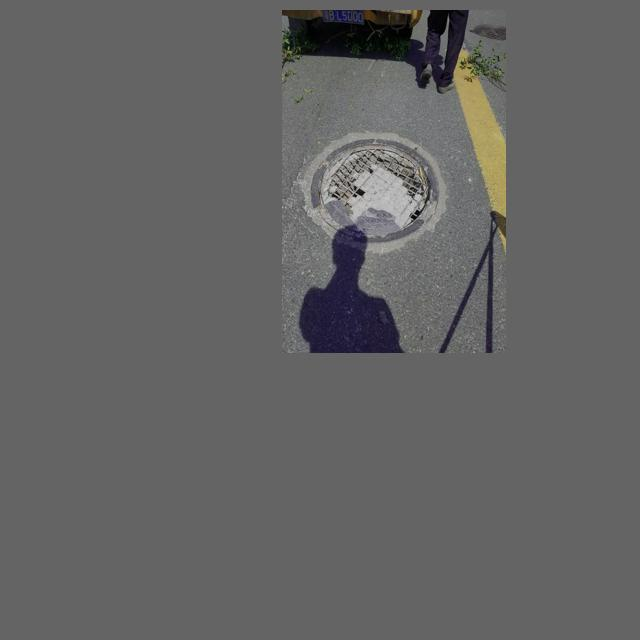broke: (305, 130, 447, 250)
